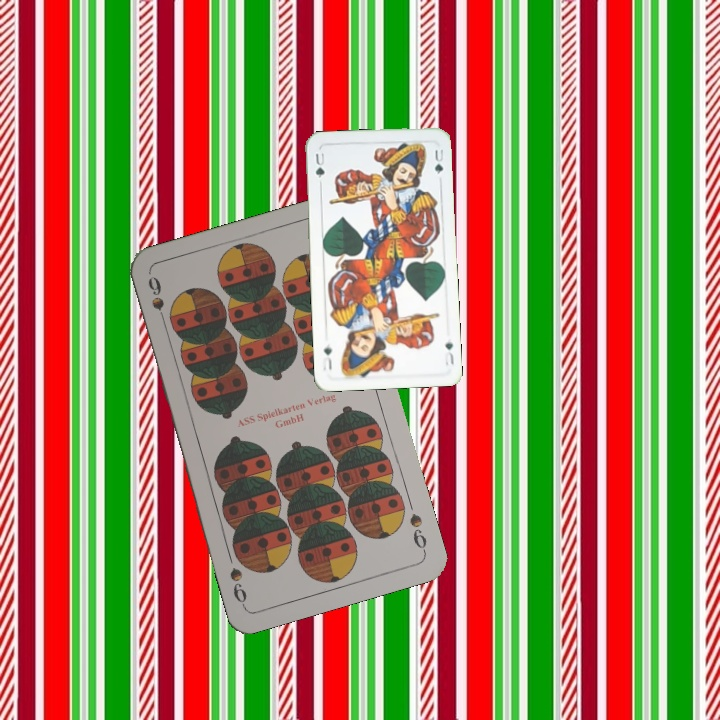GU: (311, 149, 327, 187), (440, 337, 456, 368)
S9: (143, 271, 170, 330), (405, 509, 429, 556)
